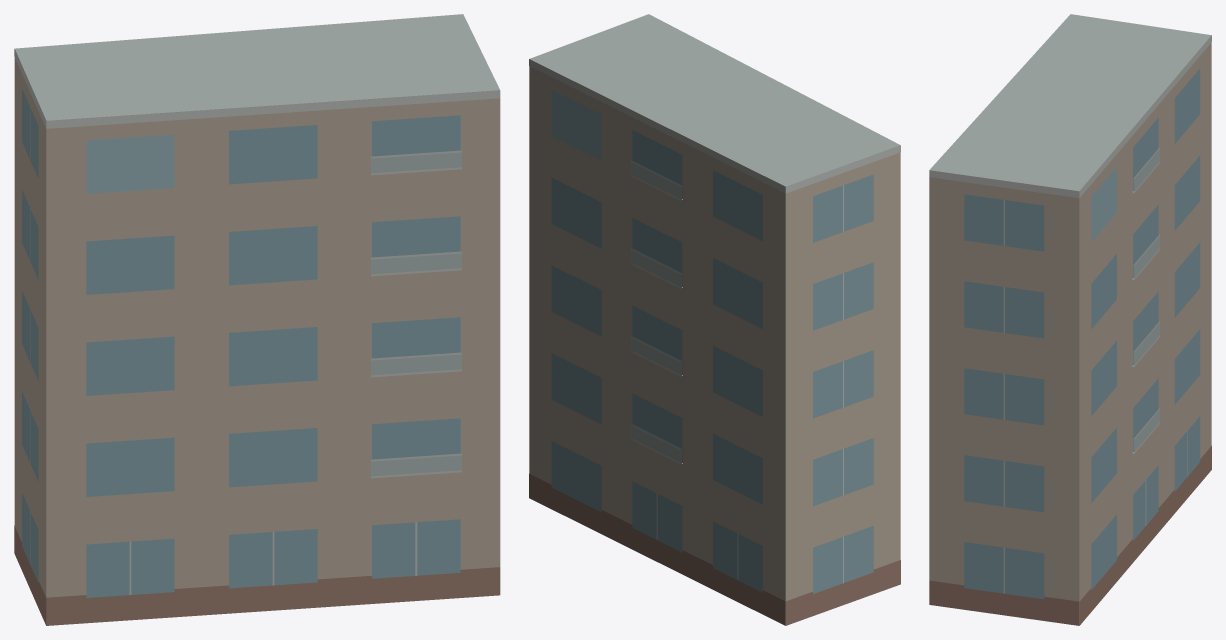
Rendered from survey-upis-32945924.glb.
3 views of the same model, side by side, from view 1: azimuth 30°, elevation 25°; view 2: azimuth 150°, elevation 25°; view 3: azimuth 270°, elevation 25° (orthographic). The views are drawn at different scales.
Parts seen in each view (by area): view 1: survey-upis-32945924.tmp; view 2: survey-upis-32945924.tmp; view 3: survey-upis-32945924.tmp.
Boxes of the visible parts, x1,y1,x2,y2 form: survey-upis-32945924.tmp: [14, 14, 500, 625]; survey-upis-32945924.tmp: [529, 14, 900, 625]; survey-upis-32945924.tmp: [929, 14, 1211, 625].
Size of the model in its own units: 13.35 by 15.25 by 8.99.
